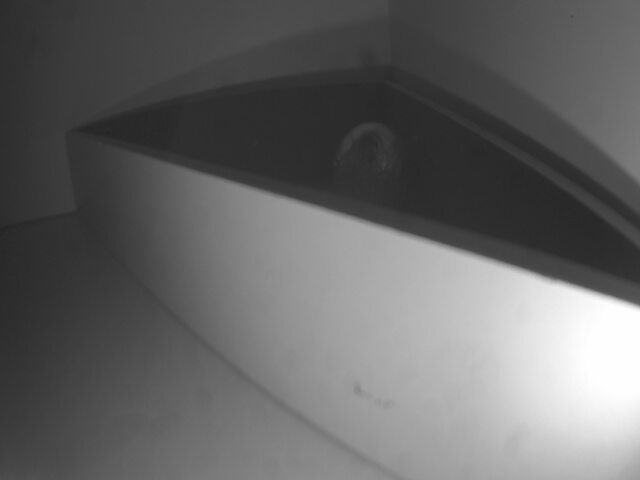Red: (66, 134, 640, 480)
